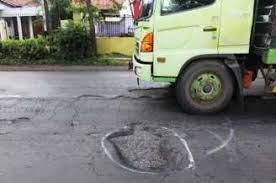Pothole: (106, 121, 191, 183), (70, 86, 178, 111), (1, 93, 40, 155)
